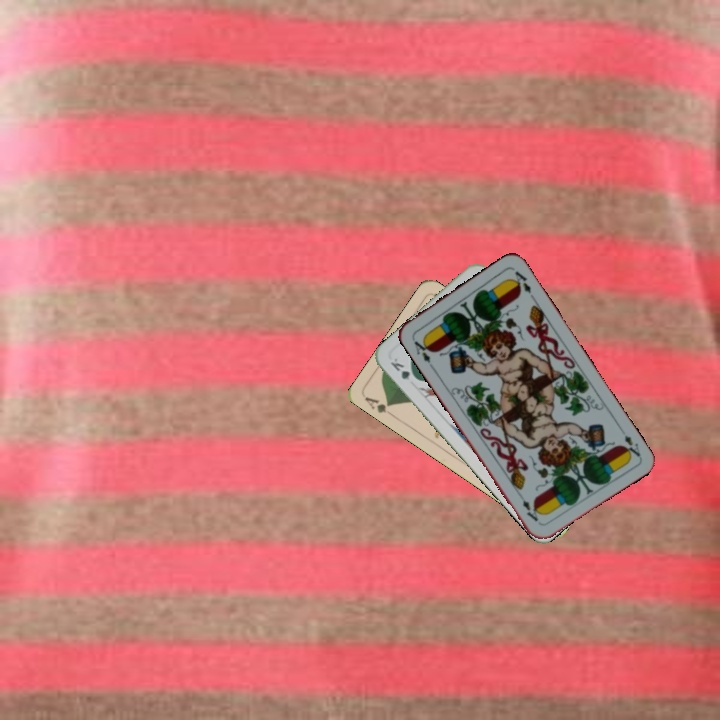EA: (409, 334, 436, 371), (618, 431, 643, 460)
GA: (360, 392, 397, 420)
GK: (386, 354, 421, 384)
